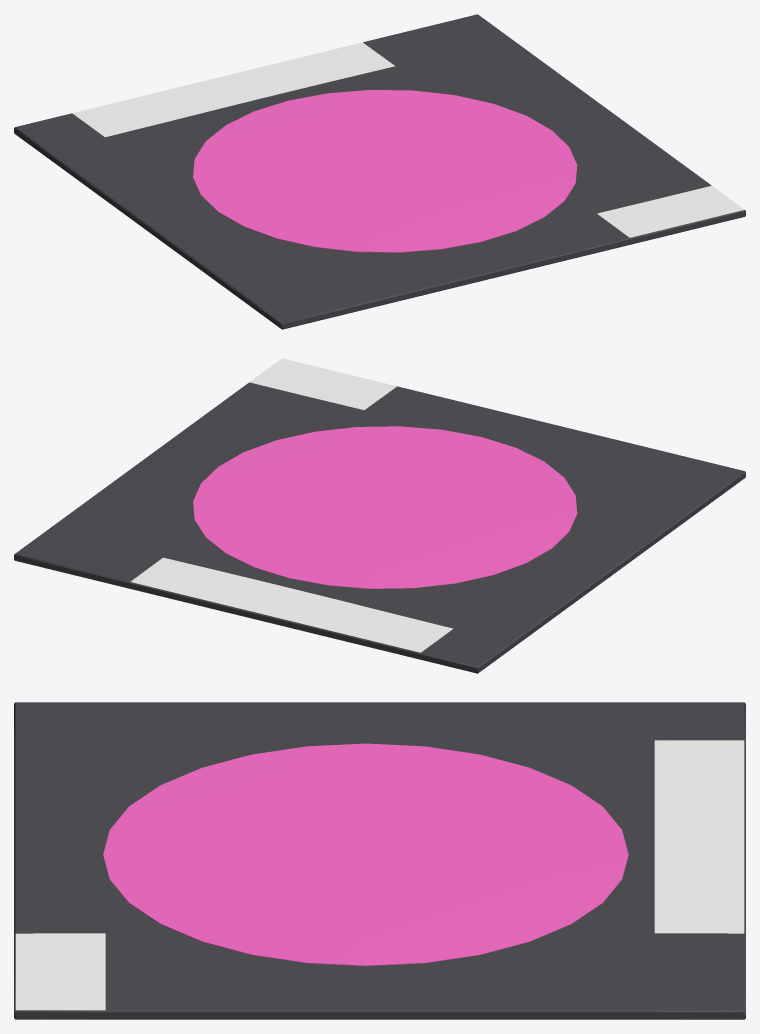
Rendered from paper_vinyl_record_sleeve_a.fbx.
The picture shows the model from 3 angles, top to bottom: view 1: azimuth 30°, elevation 25°; view 2: azimuth 150°, elevation 25°; view 3: azimuth 270°, elevation 25°; orthographic projection. The views are drawn at different scales.
Visible parts, largest first — view 1: paper_vinyl_record_sleeve_a; view 2: paper_vinyl_record_sleeve_a; view 3: paper_vinyl_record_sleeve_a.
Boxes of the visible parts, bbox=[...] form: paper_vinyl_record_sleeve_a: bbox=[14, 14, 745, 329]; paper_vinyl_record_sleeve_a: bbox=[14, 358, 745, 673]; paper_vinyl_record_sleeve_a: bbox=[14, 702, 745, 1019].
Bounding box in the file's own units: 0.312 × 0.00595 × 0.312.
